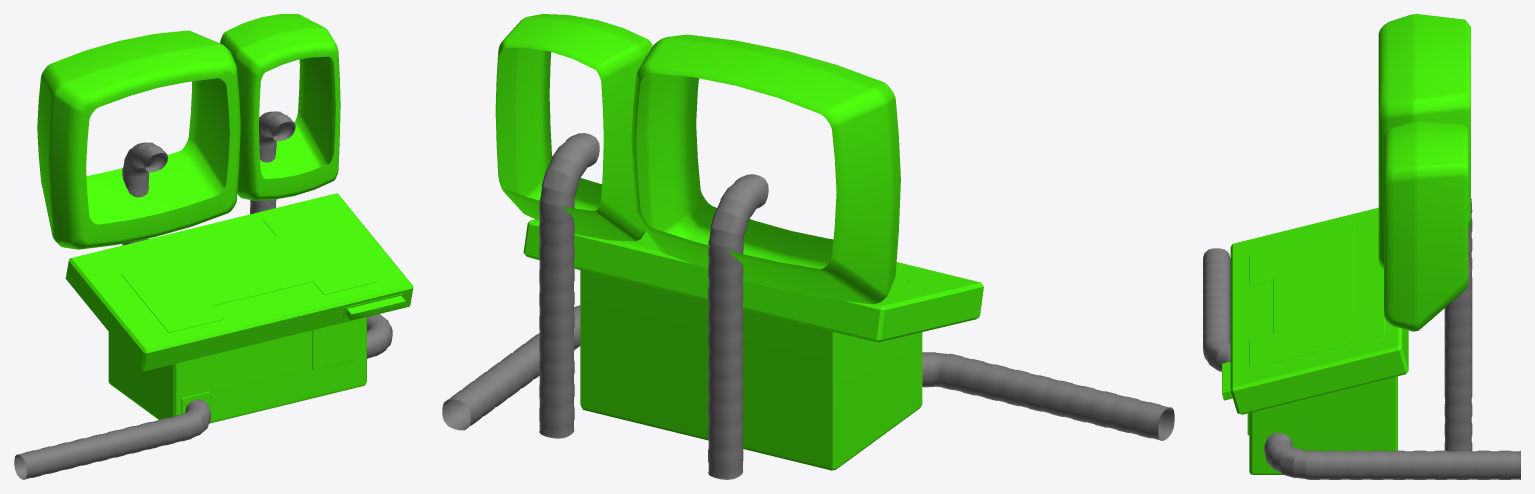
The model's file is plastica_01.fbx.
3 renders of one model, left to right at view 1: azimuth 30°, elevation 25°; view 2: azimuth 150°, elevation 25°; view 3: azimuth 270°, elevation 25°, orthographic. The views are drawn at different scales.
Parts seen in each view (by area): view 1: LX_CaseLX_TV, polySurface15, DX_CaseDX_TV, polySurface16, polySurface13, Tube, Tube2, polySurface14, Tube3, Tube1, vhs_pCube1; view 2: LX_CaseLX_TV, polySurface13, DX_CaseDX_TV, polySurface15, Tube3, Tube2, Tube, Tube1; view 3: DX_CaseDX_TV, polySurface15, polySurface16, LX_CaseLX_TV, polySurface13, Tube1, Tube3, Tube, vhs_pCube1.
Part boxes in pixels (x1,y1,x2,y2): LX_CaseLX_TV: (37,30,240,249); polySurface15: (65,193,413,371); DX_CaseDX_TV: (220,14,340,200); polySurface16: (121,207,376,332); polySurface13: (108,317,366,423); Tube: (14,399,210,479); Tube2: (122,142,167,245); polySurface14: (312,320,353,369); Tube3: (250,111,295,214); Tube1: (367,314,392,358); vhs_pCube1: (346,295,405,320); LX_CaseLX_TV: (631,34,900,304); polySurface13: (580,270,922,470); DX_CaseDX_TV: (495,14,652,241); polySurface15: (523,219,983,342); Tube3: (539,133,599,438); Tube2: (708,174,768,479); Tube: (922,352,1174,440); Tube1: (442,305,580,430); DX_CaseDX_TV: (1384,121,1468,331); polySurface15: (1230,207,1408,414); polySurface16: (1249,229,1384,368); LX_CaseLX_TV: (1378,14,1470,269); polySurface13: (1249,376,1397,474); Tube1: (1264,433,1520,479); Tube3: (1444,260,1472,451); Tube: (1203,248,1230,371); vhs_pCube1: (1222,361,1232,400).
Bounding box in the file's own units: 353 × 255 × 214.
